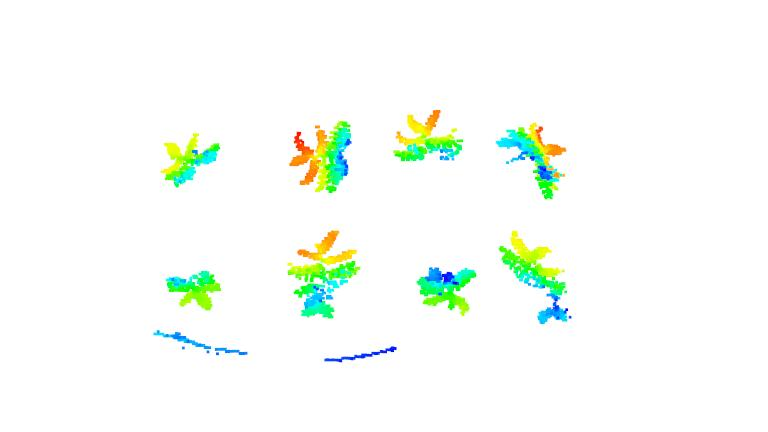chickpea: (498, 230, 572, 324), (288, 230, 360, 318), (496, 120, 569, 200), (287, 119, 355, 193), (392, 109, 463, 163), (159, 132, 221, 189), (415, 265, 479, 315), (165, 270, 221, 311)
